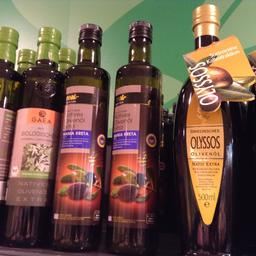oil: (172, 4, 236, 254), (0, 25, 63, 246), (105, 20, 162, 254), (54, 22, 108, 252)
